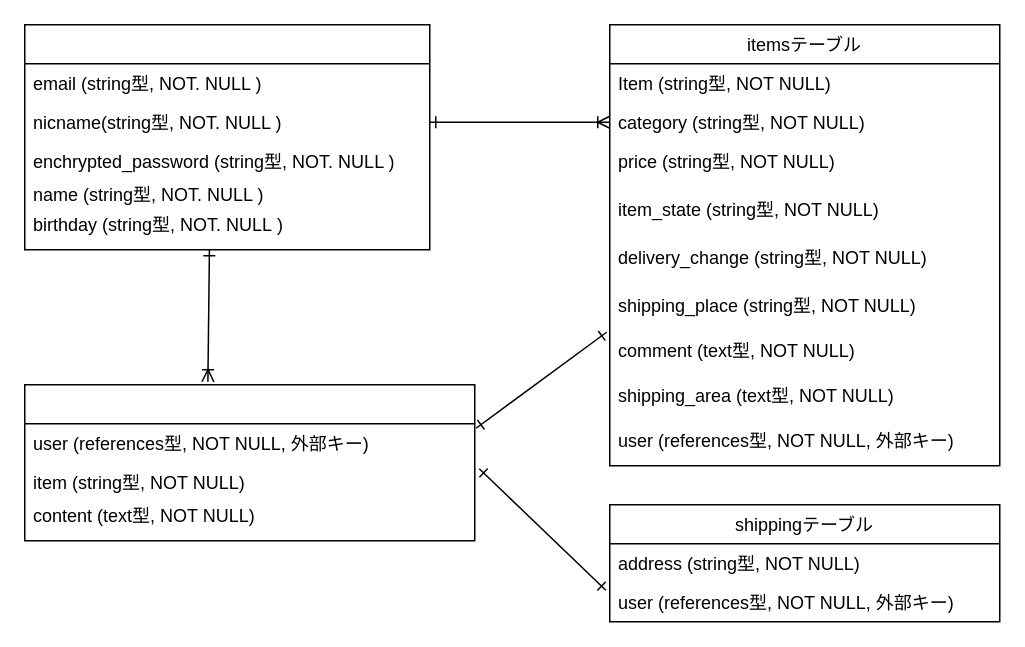
The diagram is 1025 pixels wide and 647 high, and some of its shapes have lost their labels. Here are the shapes that lost their labels. From the top down, the box of each, then its label:
(23, 23, 430, 250): usersテーブル
(23, 383, 475, 541): purchasesテーブル
